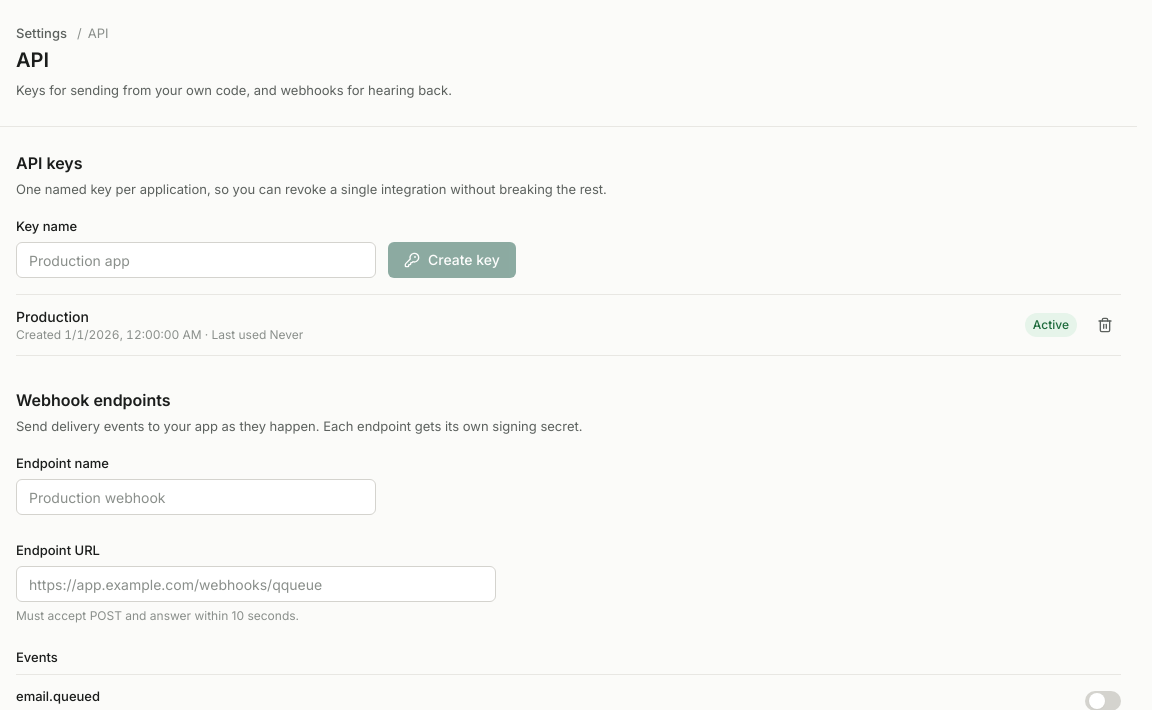
it: ApiSettings › revokes an API key
Expected: the text "Production" is shown, [16, 308, 89, 325]
Click the button named "Revoke Production". click: (1105, 325)
box: [1089, 309, 1121, 341]
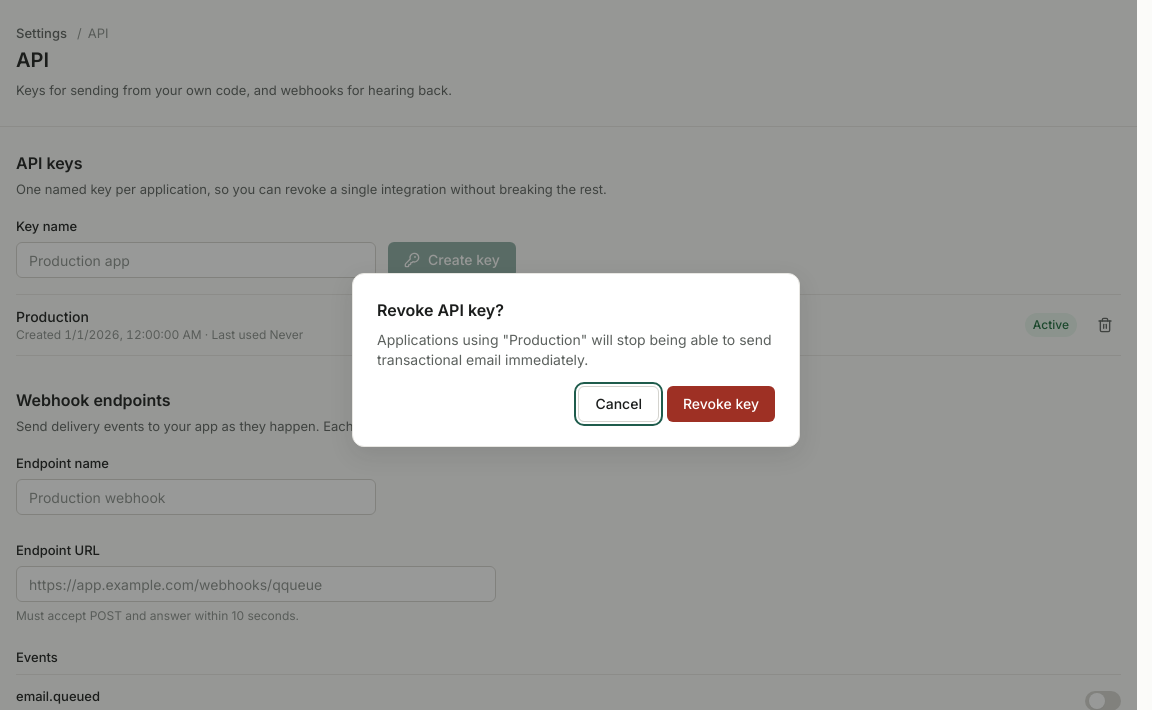
Click the button "Revoke key". click: (721, 404)
box: [667, 386, 775, 422]
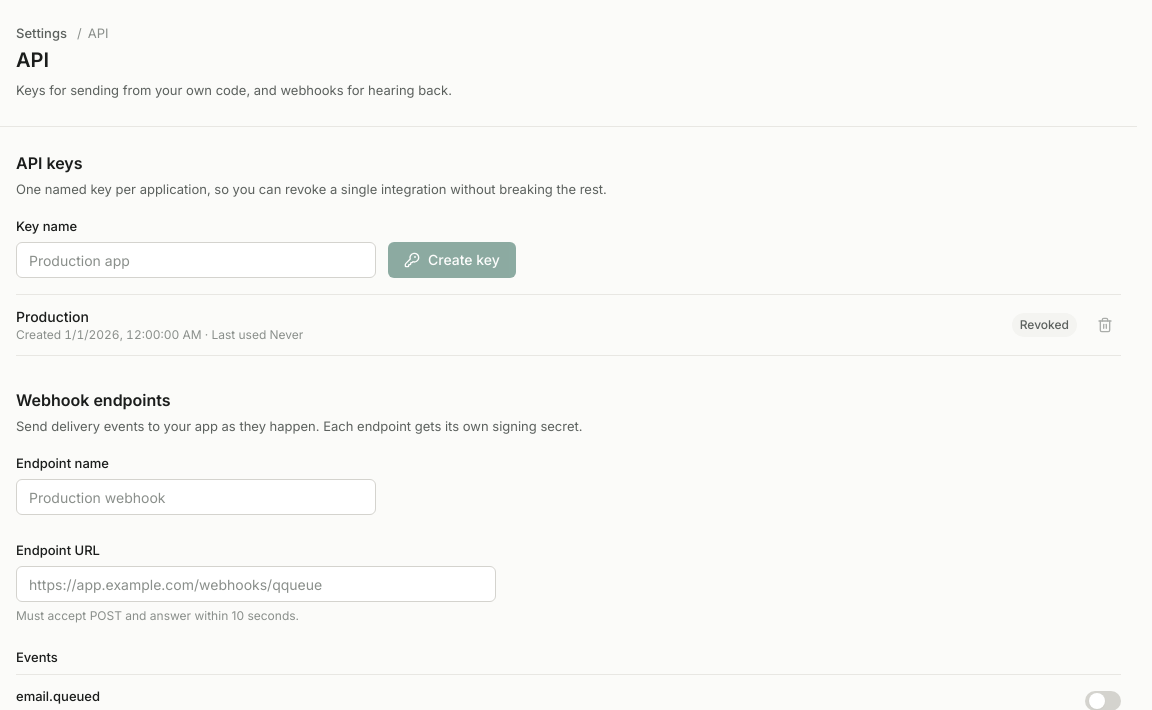
Now the text "Revoked" is shown, box [1012, 313, 1077, 337]
